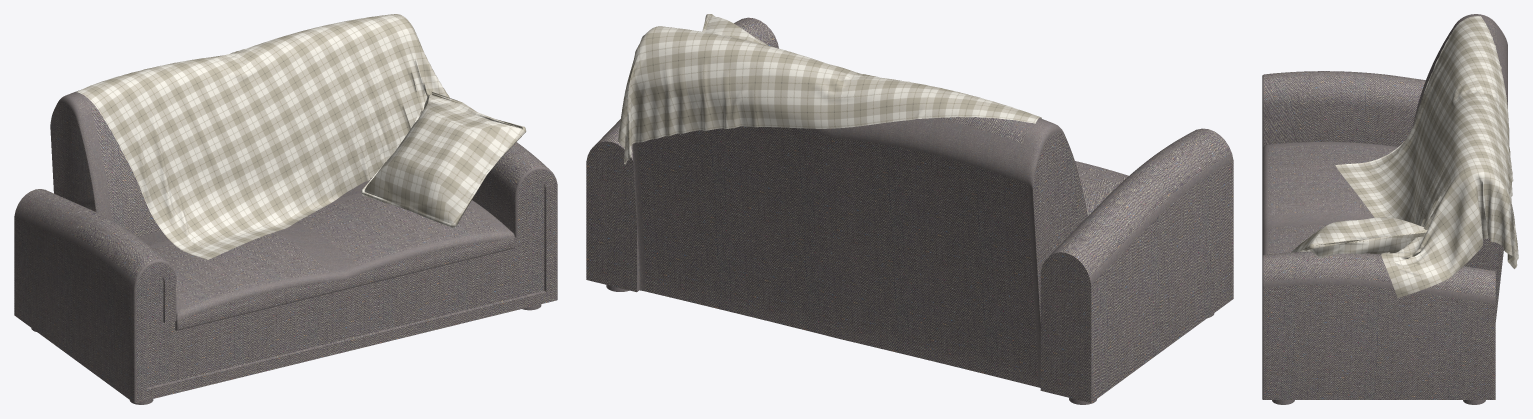
Rendered from sofa.gltf.
3 renders of one model, left to right at view 1: azimuth 30°, elevation 25°; view 2: azimuth 150°, elevation 25°; view 3: azimuth 270°, elevation 25°, orthographic. The views are drawn at different scales.
Parts seen in each view (by area): view 1: Material2 (×10); view 2: Material2 (×8); view 3: Material2 (×8).
Part boxes in pixels (left/top/right/bottom): Material2 (×10): left=14, top=14, right=557, bottom=402; Material2 (×8): left=586, top=14, right=1233, bottom=402; Material2 (×8): left=1262, top=14, right=1518, bottom=399.
Bounding box in the file's own units: 90.81 × 46.93 × 48.97.
5 materials, 3 textured.
